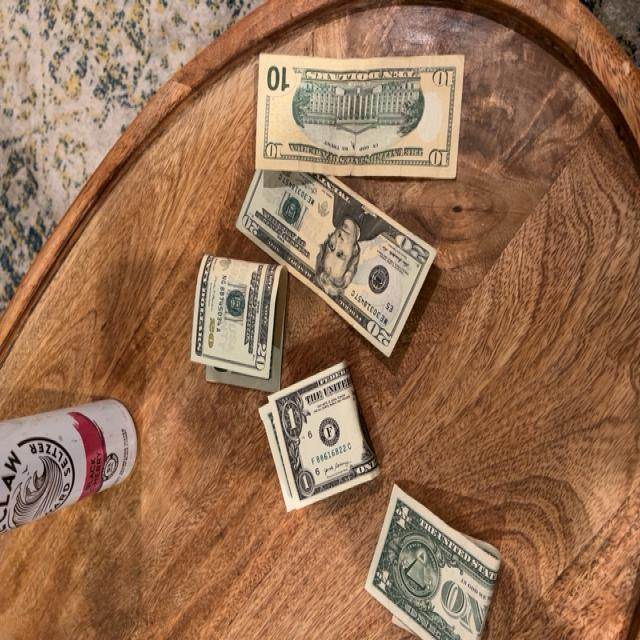one: (363, 483, 501, 640), (258, 362, 380, 514)
ten: (255, 52, 466, 180)
twenty: (236, 169, 437, 358), (192, 254, 289, 393)
